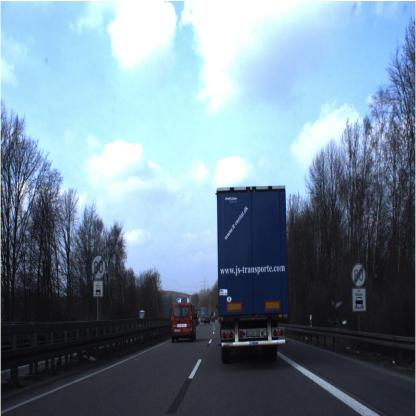other: (88, 247, 108, 284), (350, 260, 368, 290)
